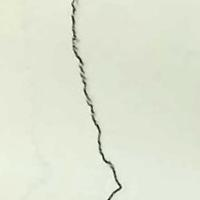crack: (53, 0, 123, 199)
